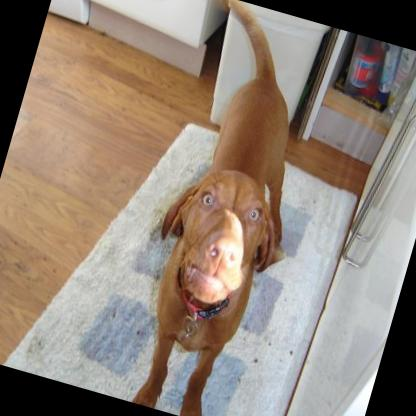vizsla: (111, 0, 346, 416)
